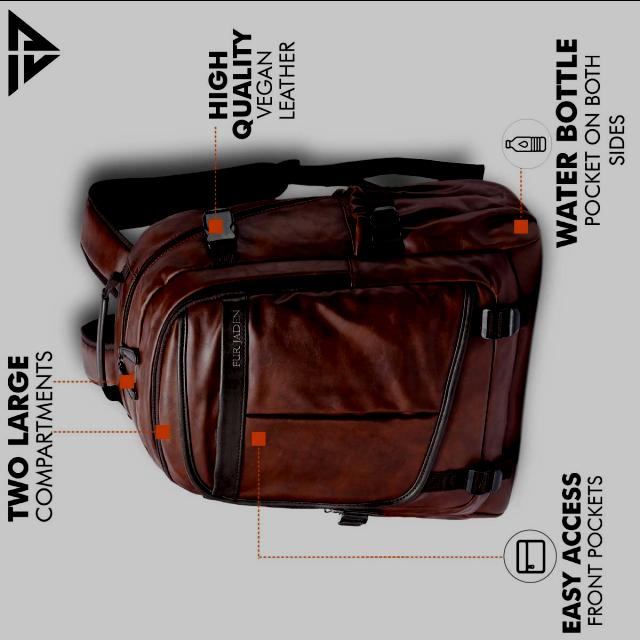backpack: (79, 158, 543, 527)
